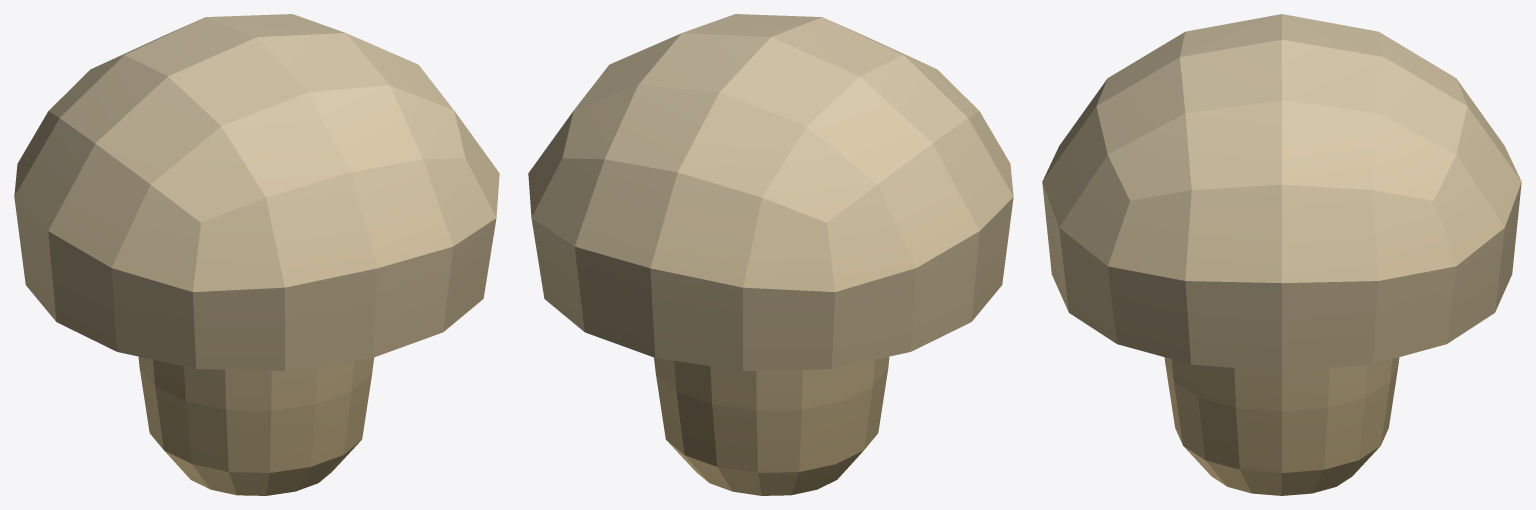
Rendered from mushroom_1a.glb.
3 views of the same model, side by side, from view 1: azimuth 30°, elevation 25°; view 2: azimuth 150°, elevation 25°; view 3: azimuth 270°, elevation 25° (orthographic).
Visible parts, largest first — view 1: mushroom_1a; view 2: mushroom_1a; view 3: mushroom_1a.
Part boxes in pixels (x1,y1,x2,y2): mushroom_1a: (14,14,499,495); mushroom_1a: (528,14,1013,495); mushroom_1a: (1042,14,1521,495).
Bounding box in the file's own units: 0.0617 × 0.0602 × 0.0617.
1 material, 1 textured.
